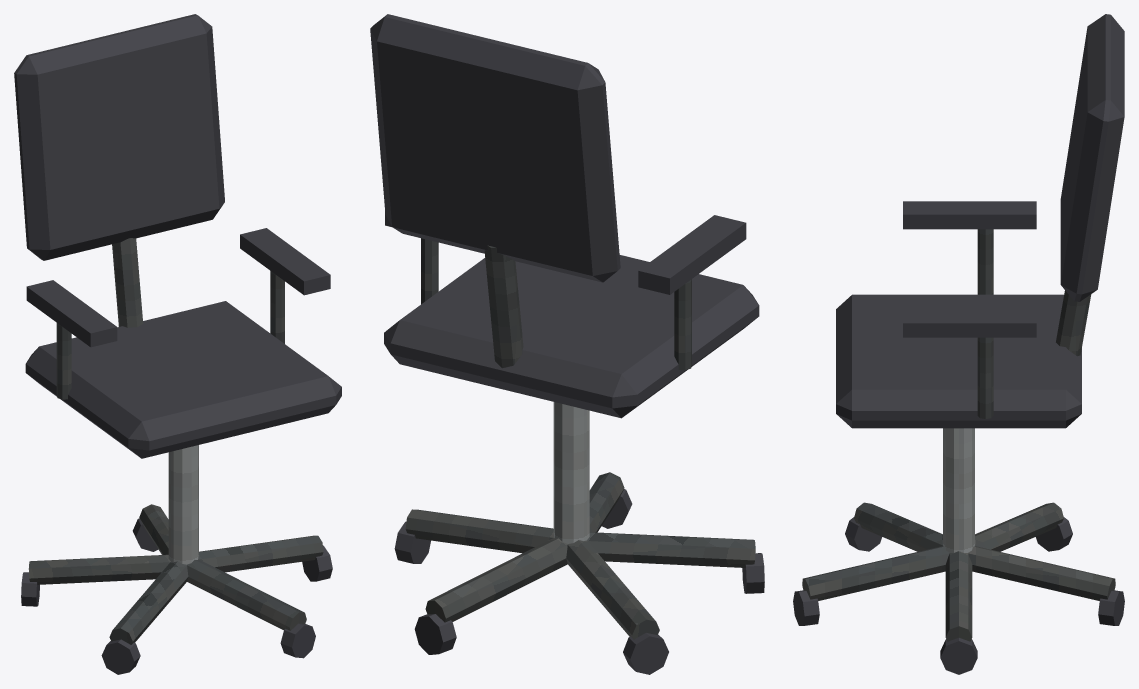
The model's file is office_chair.glb.
3 renders of one model, left to right at view 1: azimuth 30°, elevation 25°; view 2: azimuth 150°, elevation 25°; view 3: azimuth 270°, elevation 25°, orthographic. The views are drawn at different scales.
Visible parts, largest first — view 1: body; view 2: body; view 3: body.
Boxes of the visible parts, bbox=[...] form: body: bbox=[14, 14, 341, 674]; body: bbox=[370, 14, 764, 674]; body: bbox=[793, 14, 1124, 674].
Bounding box in the file's own units: 0.5904 × 1.13 × 0.6208.
Materials: 3 (2 with a texture image).
